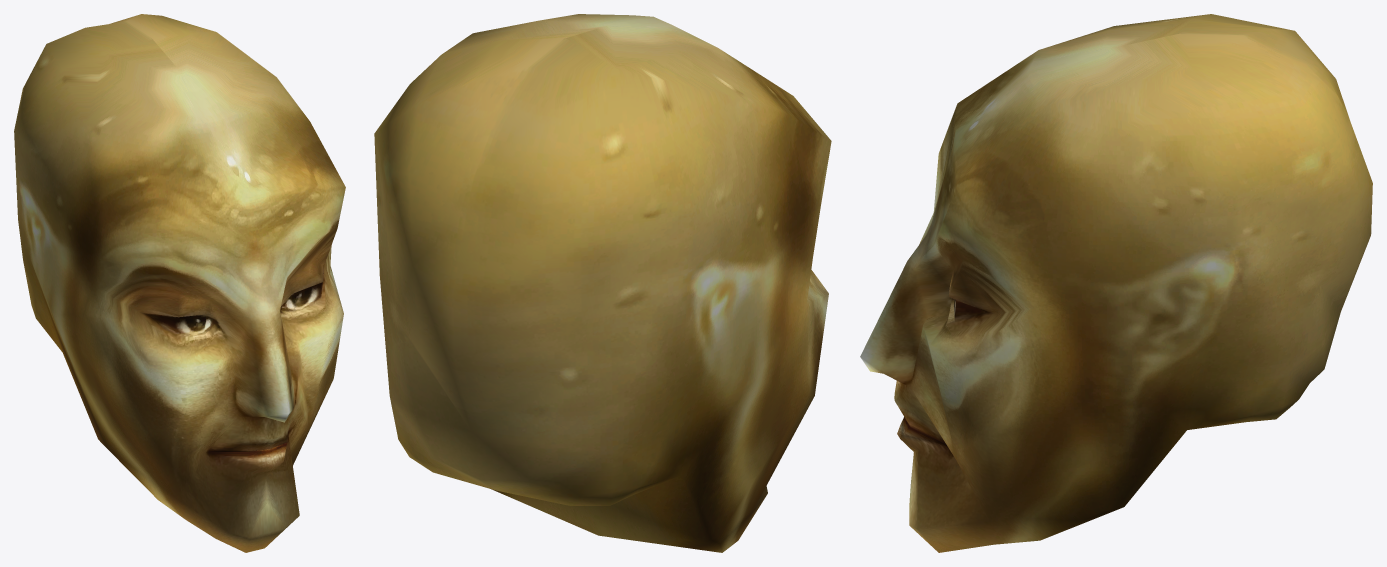
The model's file is b_n_high elf_m_head_05.glb.
3 renders of one model, left to right at view 1: azimuth 30°, elevation 25°; view 2: azimuth 150°, elevation 25°; view 3: azimuth 270°, elevation 25°, orthographic. The views are drawn at different scales.
Visible parts, largest first — view 1: Tri B_N_High Elf_M_Head_05; view 2: Tri B_N_High Elf_M_Head_05; view 3: Tri B_N_High Elf_M_Head_05.
Part boxes in pixels (x1,y1,x2,y2): Tri B_N_High Elf_M_Head_05: [14, 14, 345, 552]; Tri B_N_High Elf_M_Head_05: [374, 14, 831, 552]; Tri B_N_High Elf_M_Head_05: [860, 14, 1372, 552].
Bounding box in the file's own units: 0.0919 × 0.1601 × 0.1447.
1 material, 1 textured.
